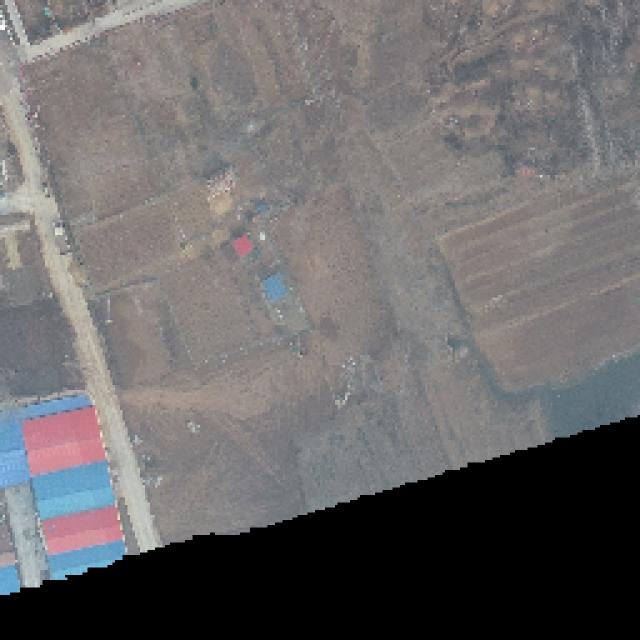Batiment: (22, 406, 105, 474), (34, 462, 113, 519), (43, 508, 121, 554), (51, 542, 124, 578)
